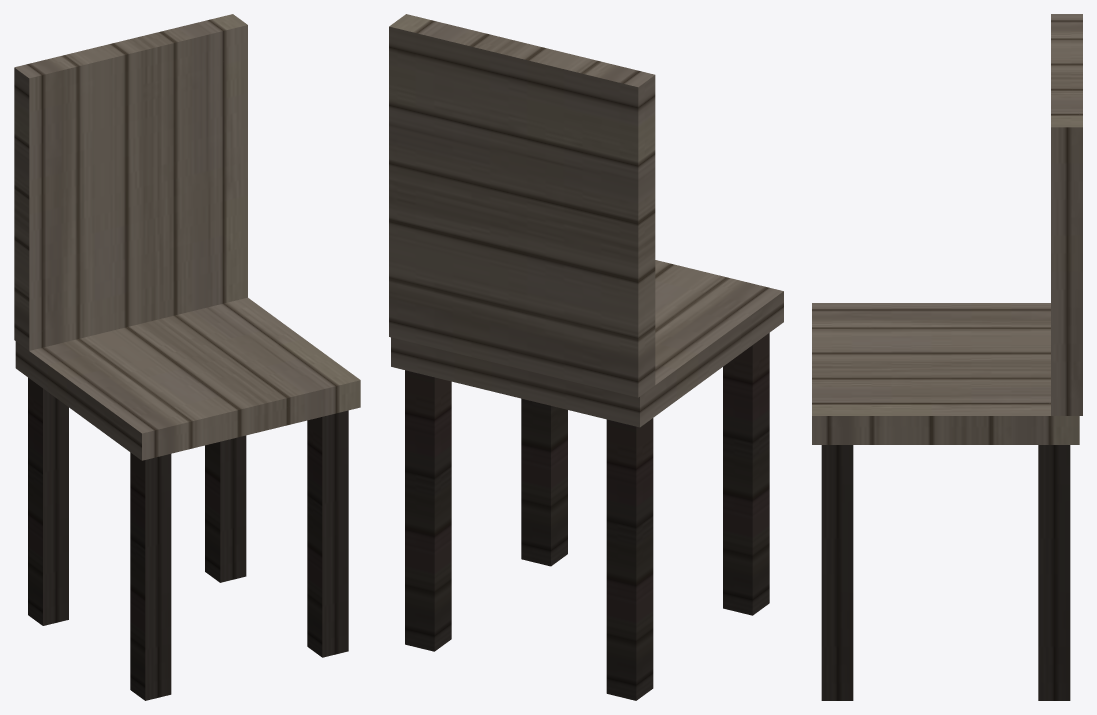
The model's file is chair_wood_01.glb.
3 views of the same model, side by side, from view 1: azimuth 30°, elevation 25°; view 2: azimuth 150°, elevation 25°; view 3: azimuth 270°, elevation 25° (orthographic). The views are drawn at different scales.
Parts seen in each view (by area): view 1: chair_wood_01; view 2: chair_wood_01; view 3: chair_wood_01.
Part boxes in pixels (<box>): chair_wood_01: <box>14,14,360,700</box>; chair_wood_01: <box>389,14,783,700</box>; chair_wood_01: <box>812,14,1082,700</box>.
Bounding box in the file's own units: 0.42 × 1 × 0.425.
2 materials, 2 textured.
